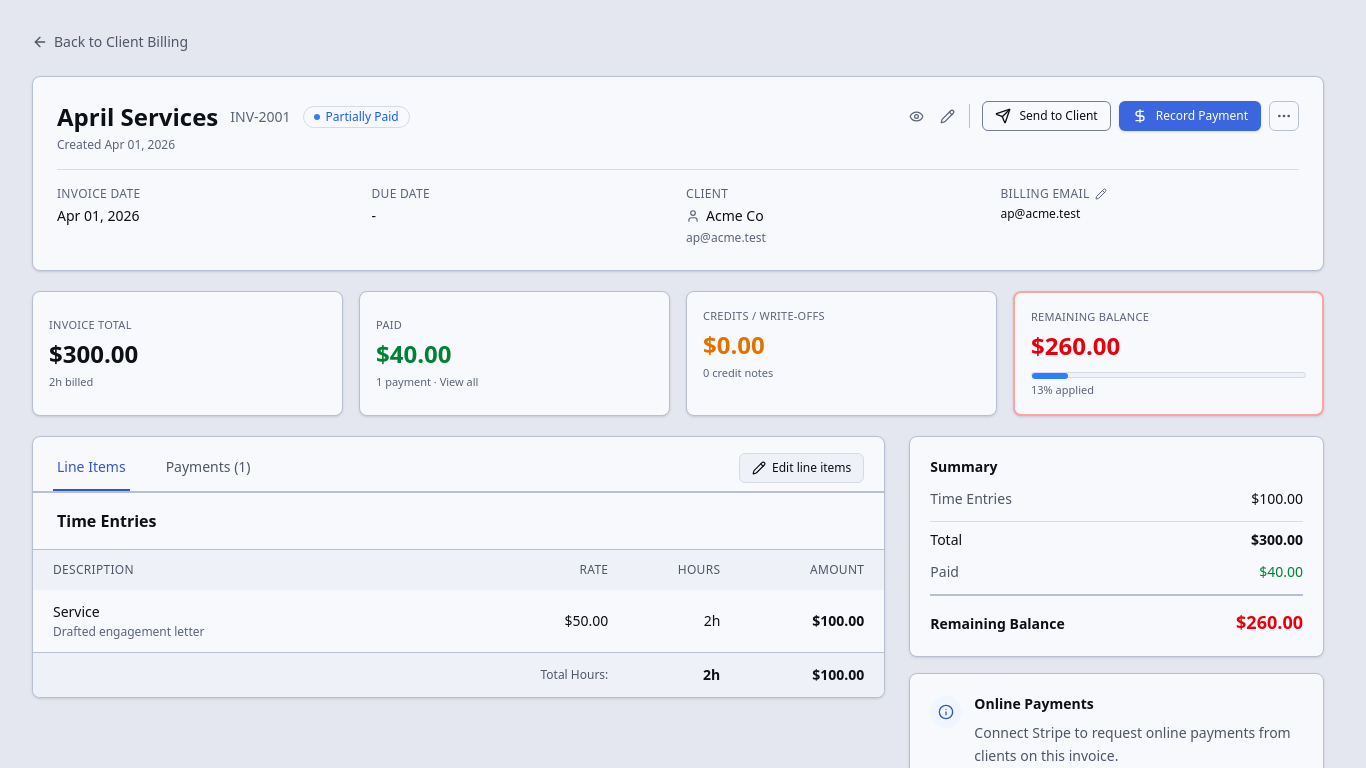
Test case: sub-cent amounts on installments and edits › refuses 10.999 on a payment edit and sends nothing
The width and height of the screenshot is (1366, 768).
Click the button "Payments (1)" at point(208, 468), box [162,445,254,491]
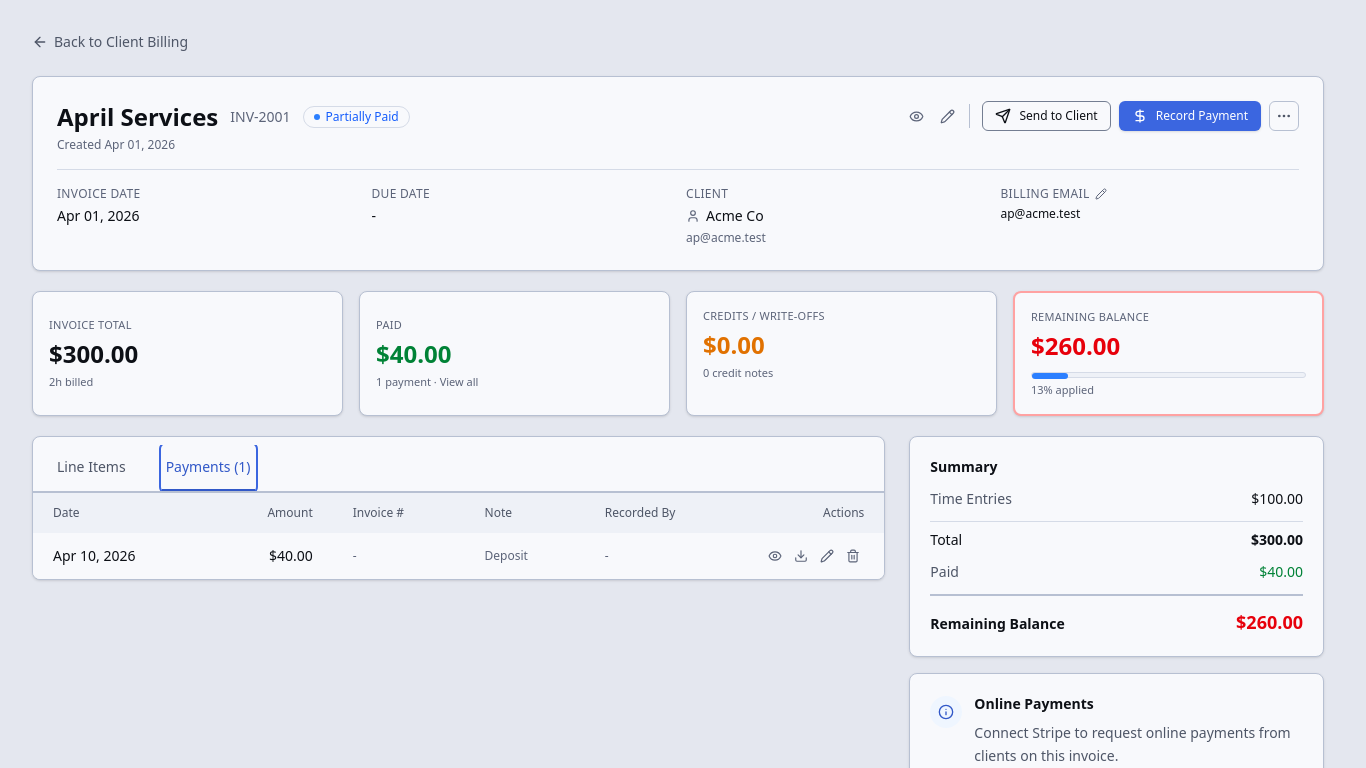
Click the button named "Edit payment" at point(827, 556), box [816,545,838,567]
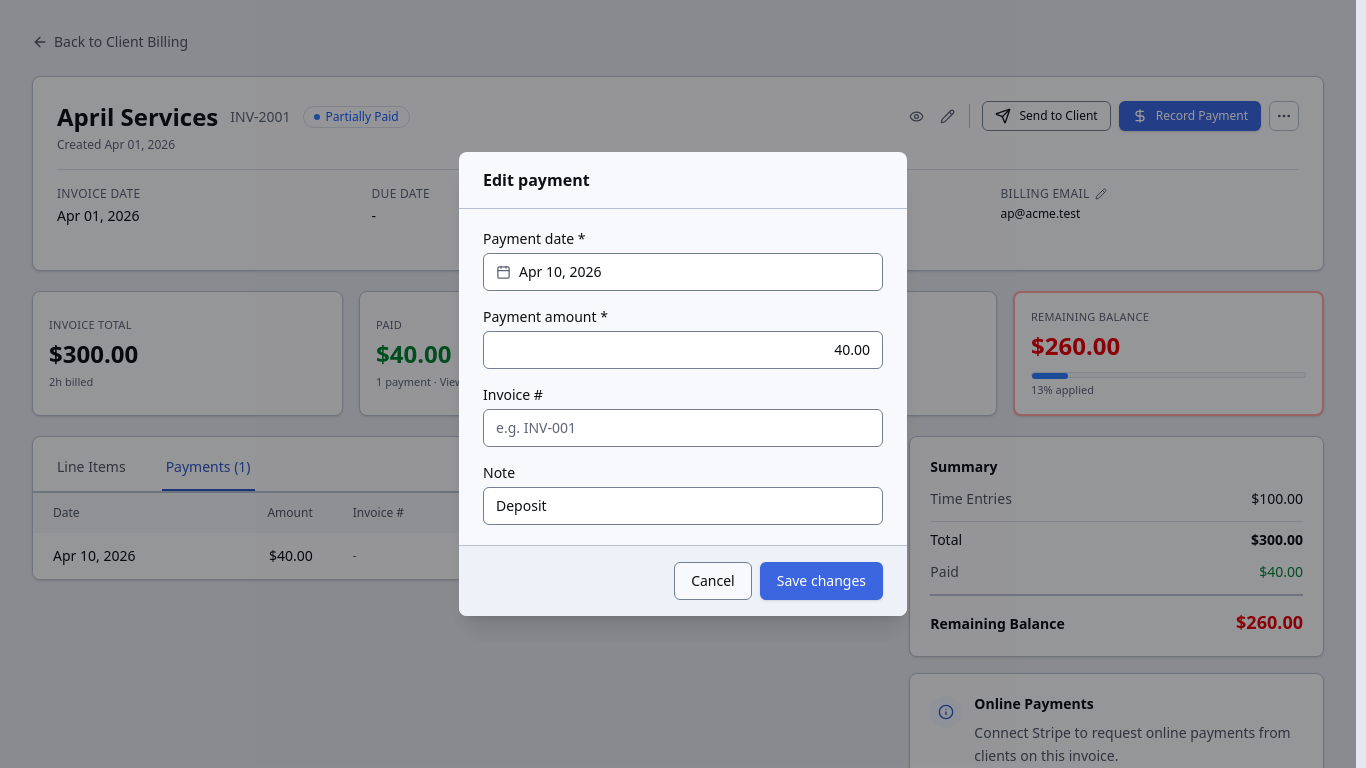
Replace the text in the number field with placeholder "0.00" with "10.999" at point(683, 350), box [483,331,883,369]
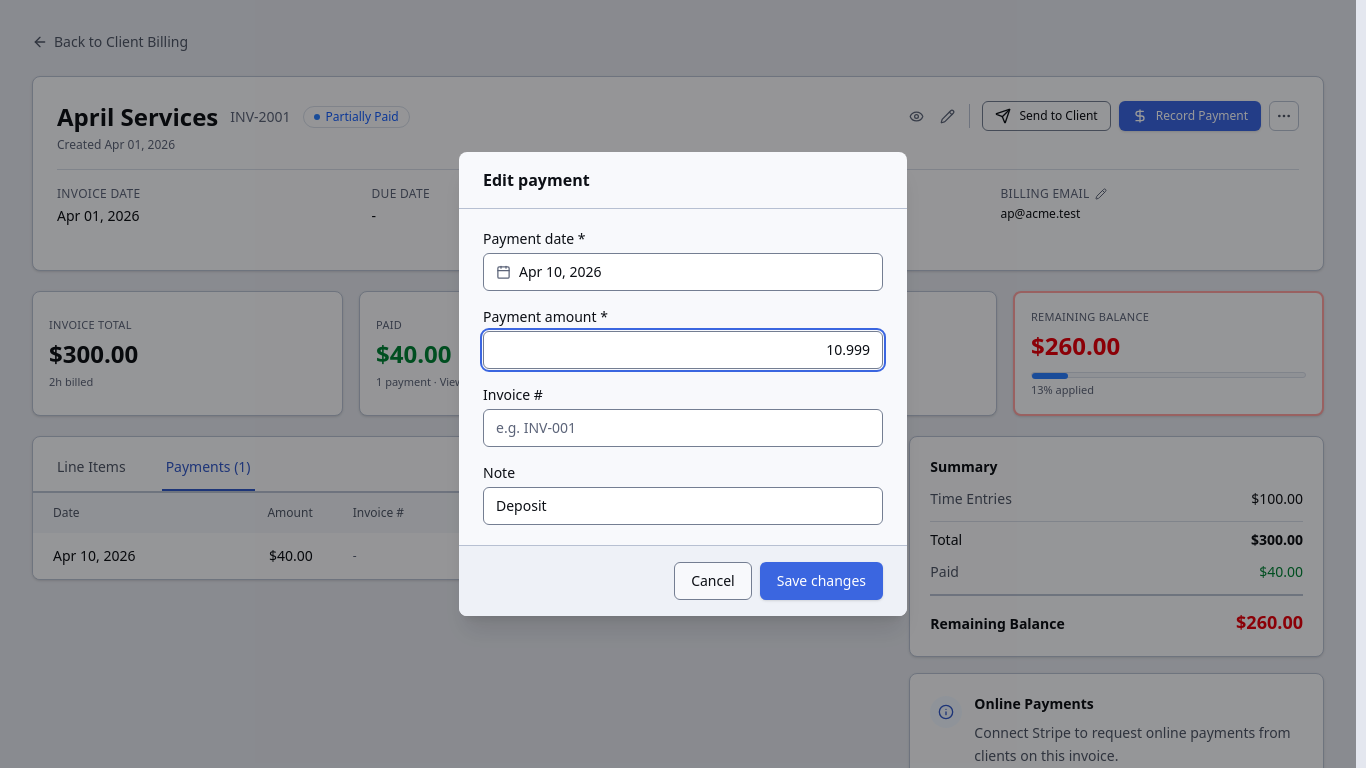
Click the button "Save changes" at point(821, 581), box [760,562,883,600]
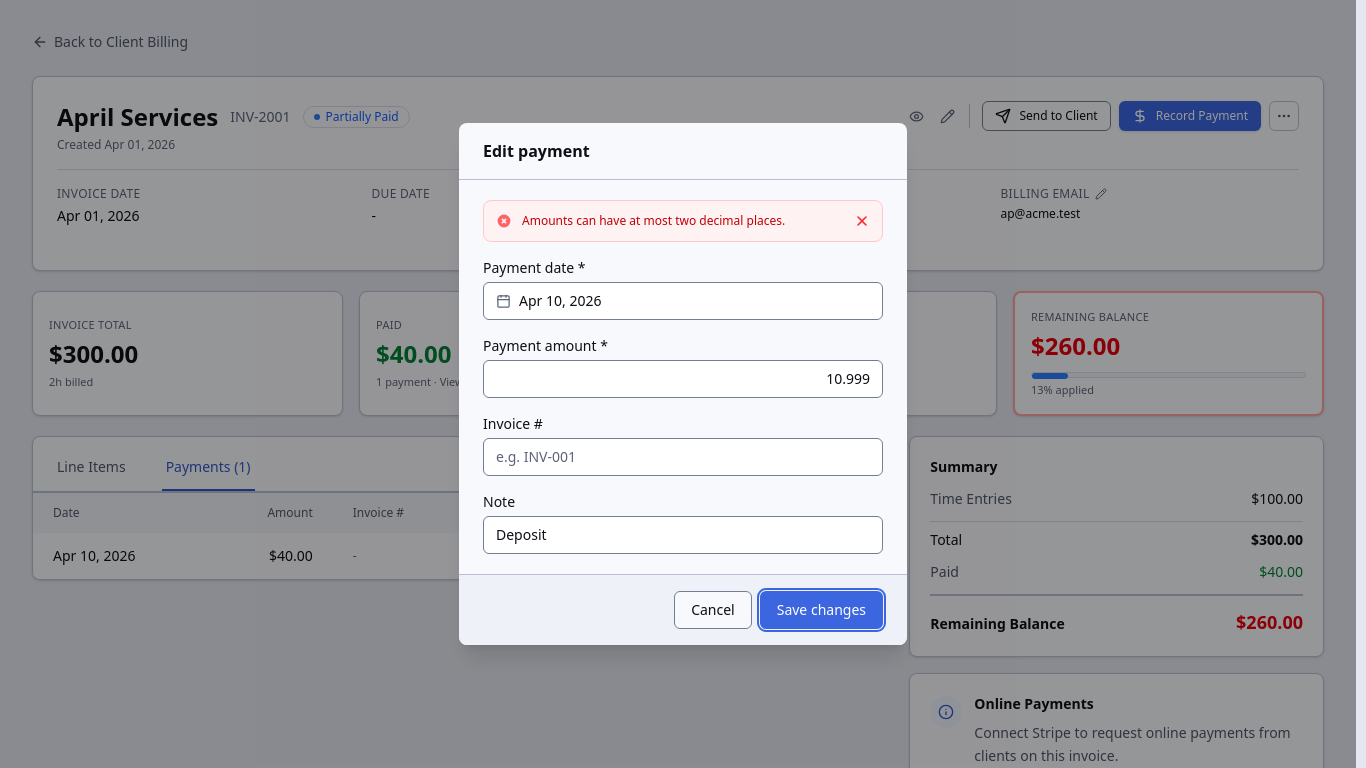
Result: the text "Amounts can have at most two decimal places." is shown at [522,212,785,229]
